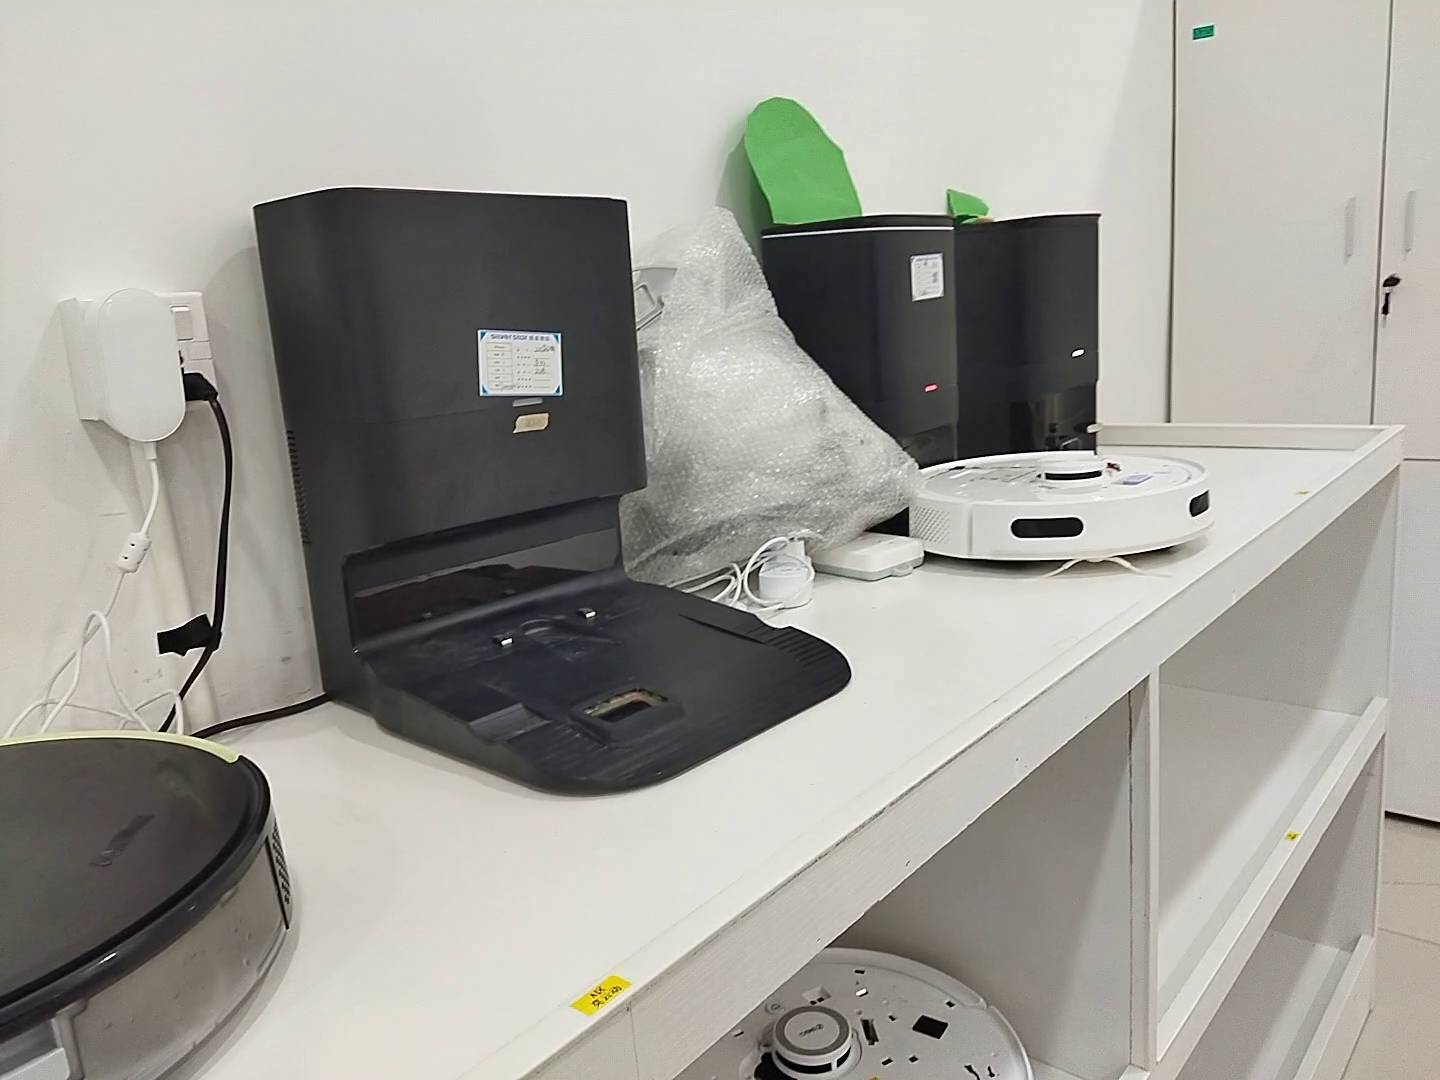dust collecting barrel: (254, 189, 853, 798), (764, 216, 962, 473), (965, 212, 1102, 453)
